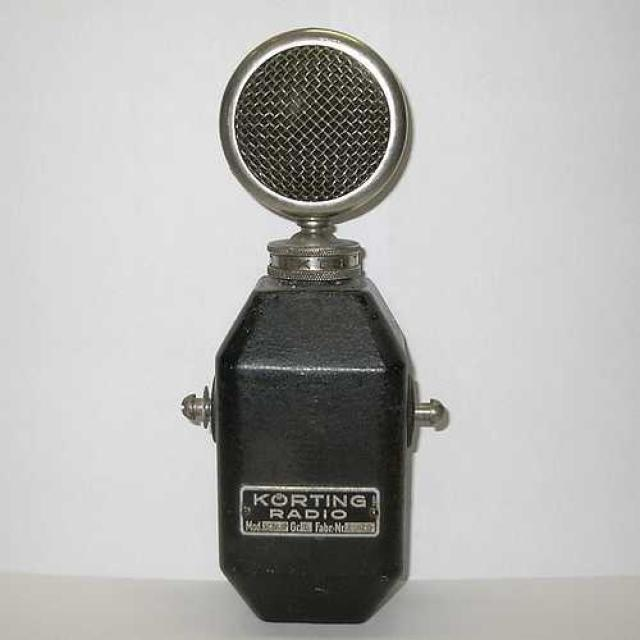microphone: (208, 18, 428, 254)
